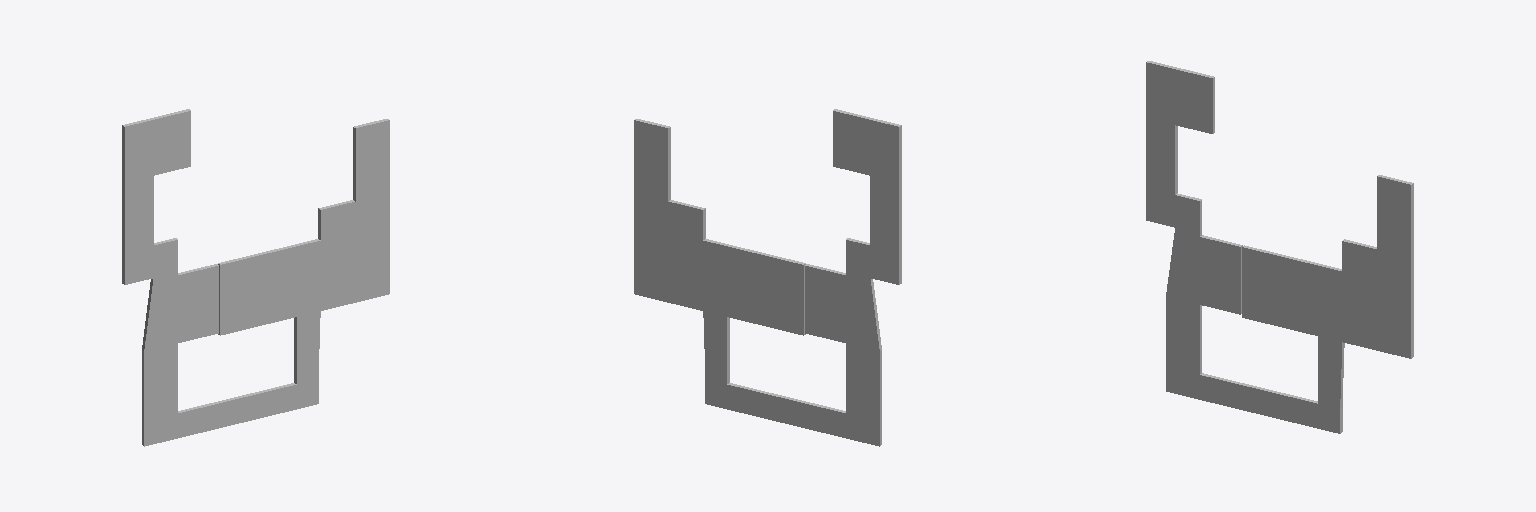
File: lab_0002_death_0001.obj
3 views of the same model, side by side, from view 1: azimuth 30°, elevation 25°; view 2: azimuth 150°, elevation 25°; view 3: azimuth 330°, elevation 25° (orthographic).
Parts seen in each view (by area): view 1: Rooms.002_Cube.156; view 2: Rooms.002_Cube.156; view 3: Rooms.002_Cube.156.
Boxes of the visible parts, box(x1,y1,x2,y2) form: Rooms.002_Cube.156: box(122, 109, 389, 446); Rooms.002_Cube.156: box(634, 109, 901, 446); Rooms.002_Cube.156: box(1146, 61, 1413, 433).
Size of the model in its own units: 701 by 820 by 10.8.